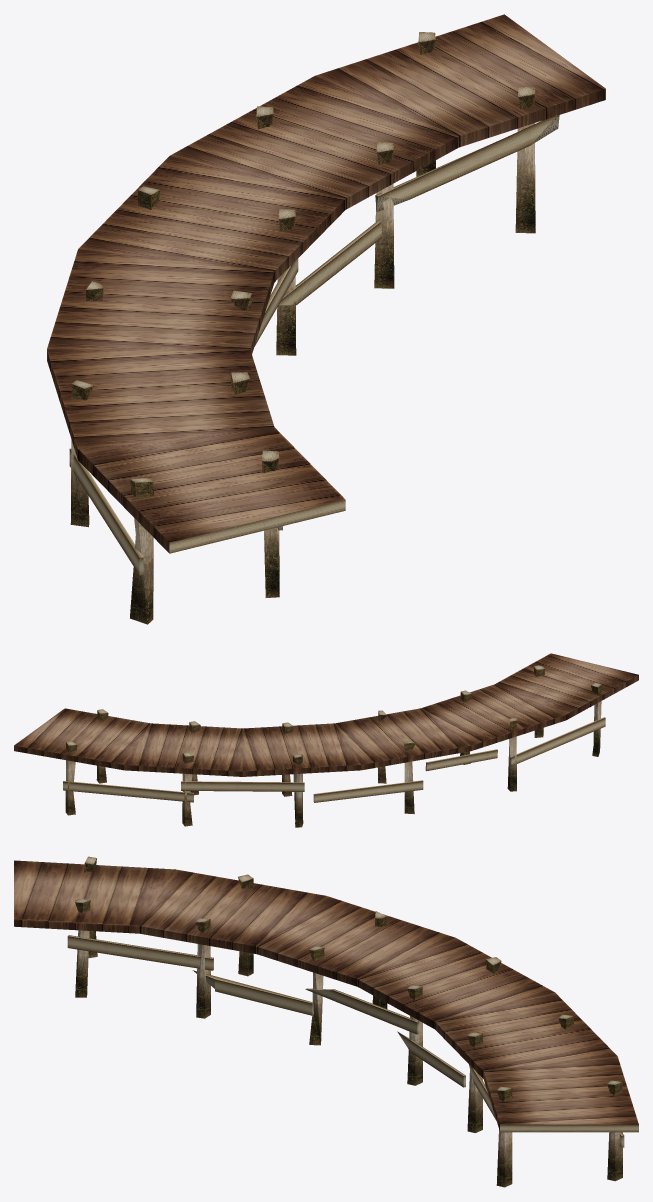
The model's file is platform2_arc_LOD1.fbx.
3 renders of one model, top to bottom at view 1: azimuth 30°, elevation 25°; view 2: azimuth 150°, elevation 25°; view 3: azimuth 270°, elevation 25°, orthographic. The views are drawn at different scales.
Parts seen in each view (by area): view 1: Default_Layer; view 2: Default_Layer; view 3: Default_Layer.
Part boxes in pixels (x1,y1,x2,y2): Default_Layer: (47,14,605,624); Default_Layer: (14,653,638,827); Default_Layer: (14,856,638,1187).
Size of the model in its own units: 450 by 76.51 by 450.
